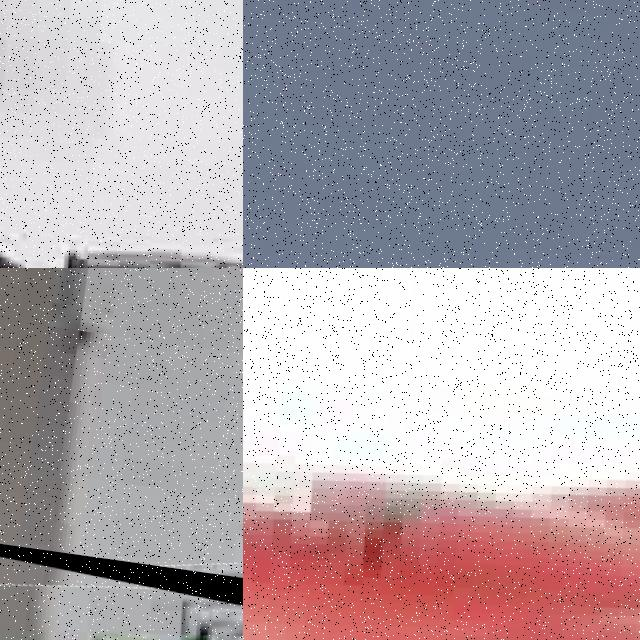drone: (243, 268, 640, 640), (0, 0, 243, 268), (0, 513, 243, 640)
